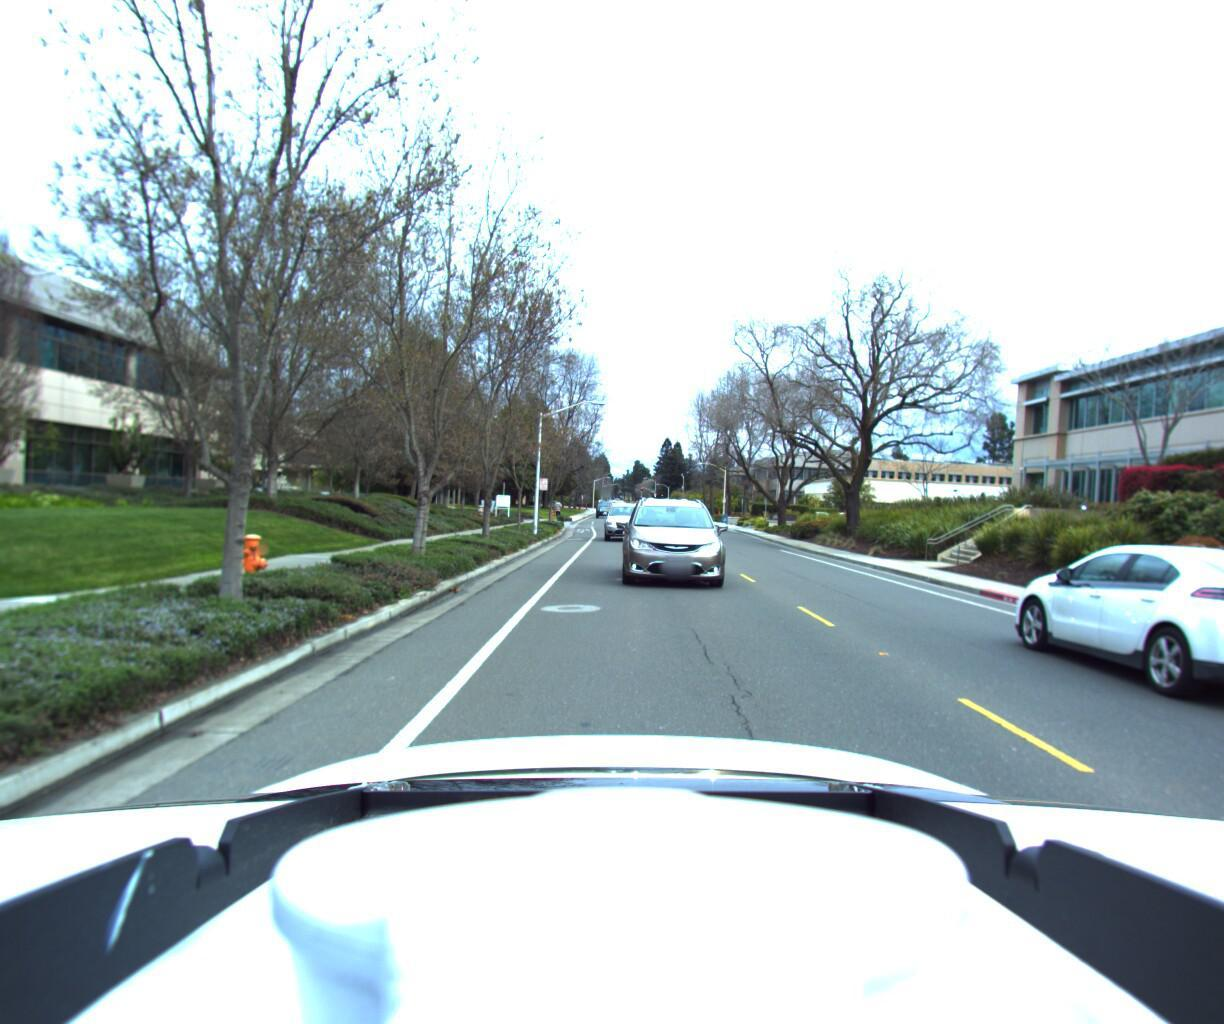car: (958, 523, 1224, 692), (606, 483, 742, 597), (600, 499, 648, 542)
